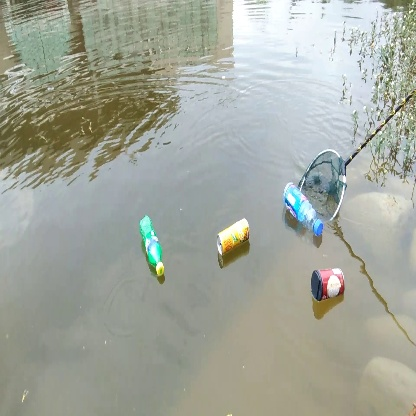bottle: (281, 180, 325, 241), (214, 212, 256, 267), (136, 214, 171, 277), (309, 265, 349, 305)
